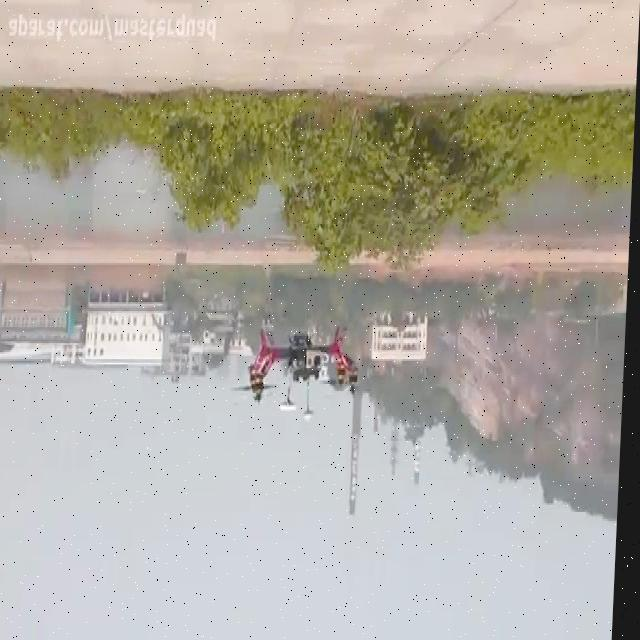drone: (231, 318, 373, 426)
